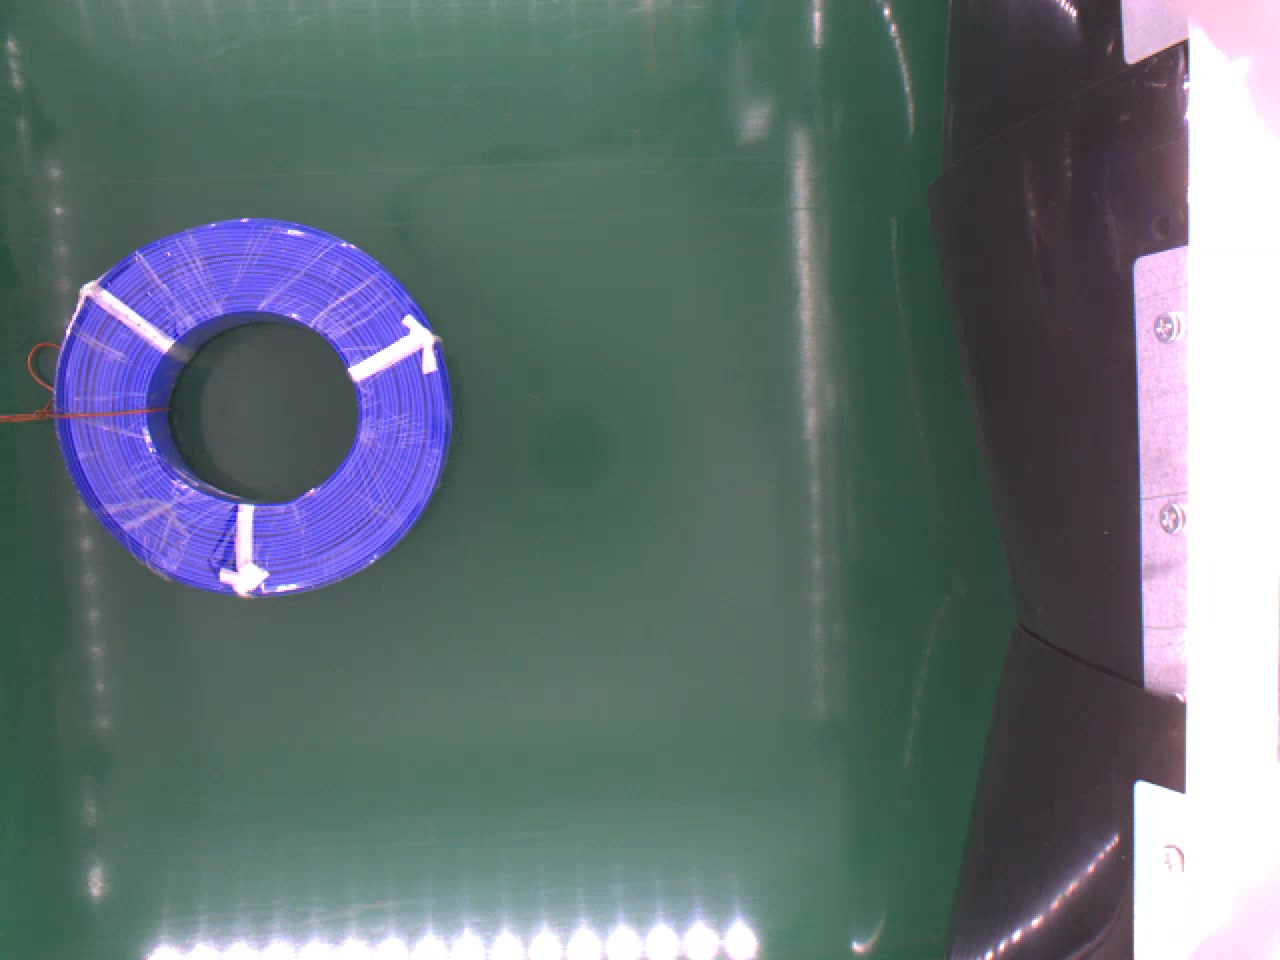blue: (56, 217, 449, 590)
